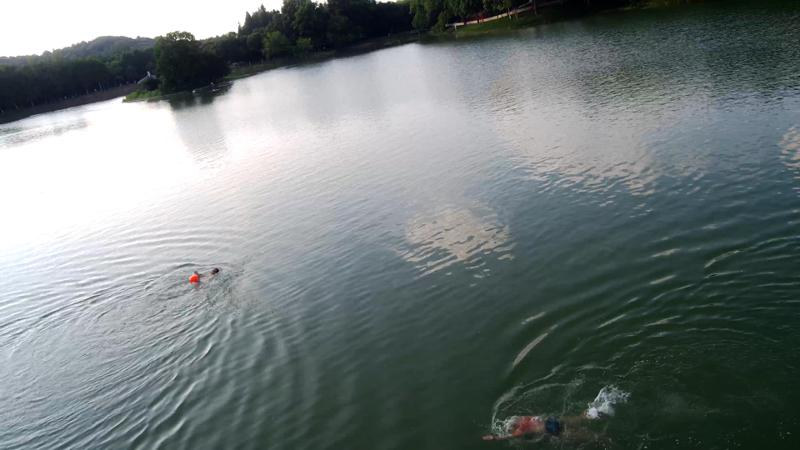swimmers: (480, 410, 603, 442)
